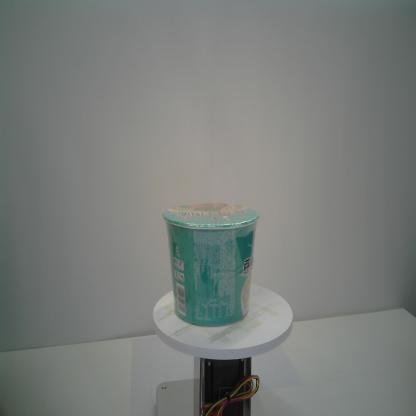Instant Noodles: (162, 195, 261, 330)
